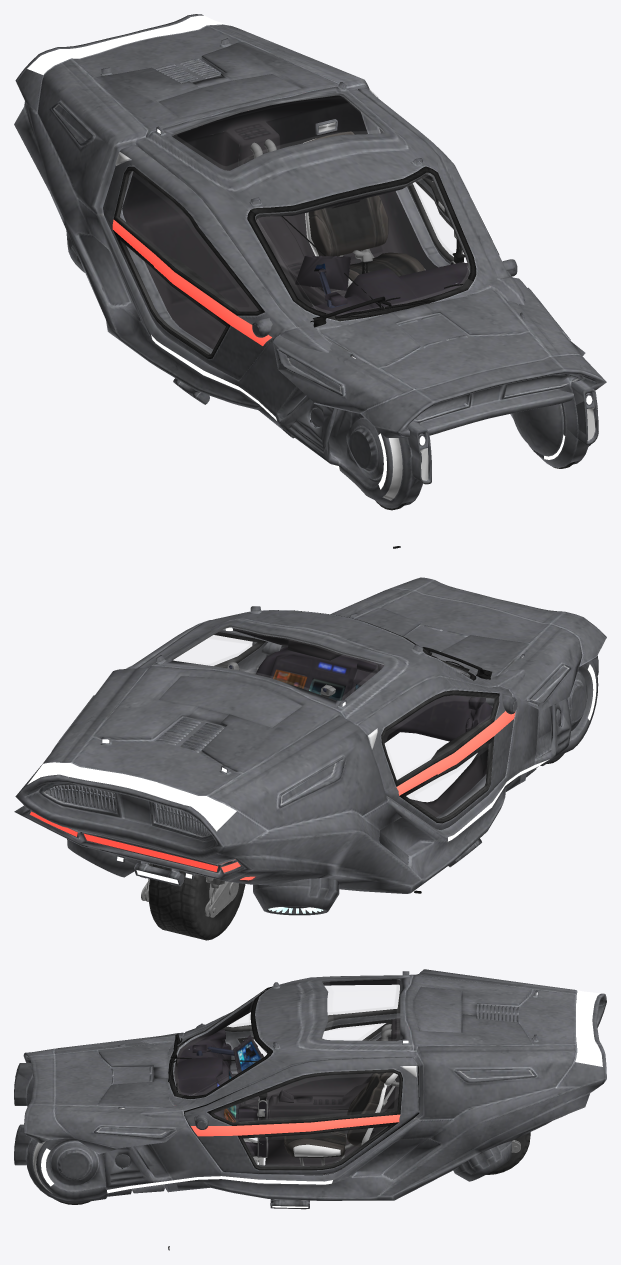
File: car5.0.glb
3 views of the same model, one above another, from view 1: azimuth 30°, elevation 25°; view 2: azimuth 150°, elevation 25°; view 3: azimuth 270°, elevation 25° (orthographic). The views are drawn at different scales.
Visible parts, largest first — view 1: spinner; view 2: spinner; view 3: spinner.
Boxes of the visible parts, left/top/right/bottom form: spinner: left=14, top=14, right=606, bottom=548; spinner: left=14, top=577, right=606, bottom=940; spinner: left=14, top=969, right=606, bottom=1250.
Size of the model in its own units: 1.37 by 1.39 by 3.
Materials: 7 (3 with a texture image).
